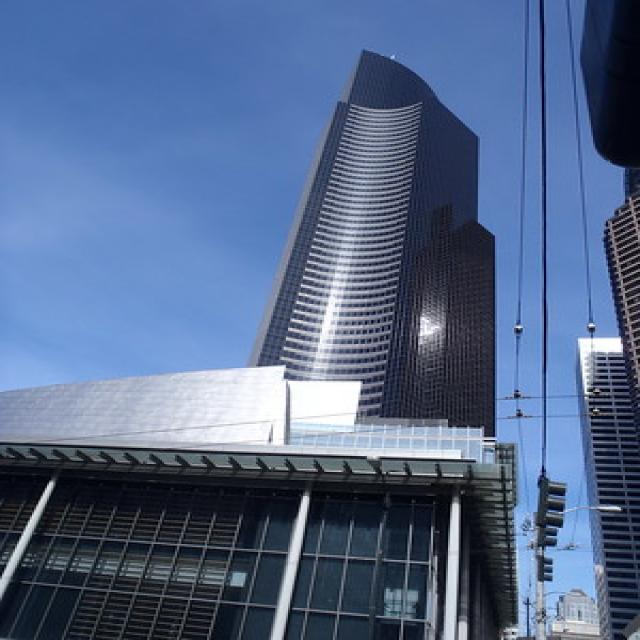building: (241, 42, 506, 470)
